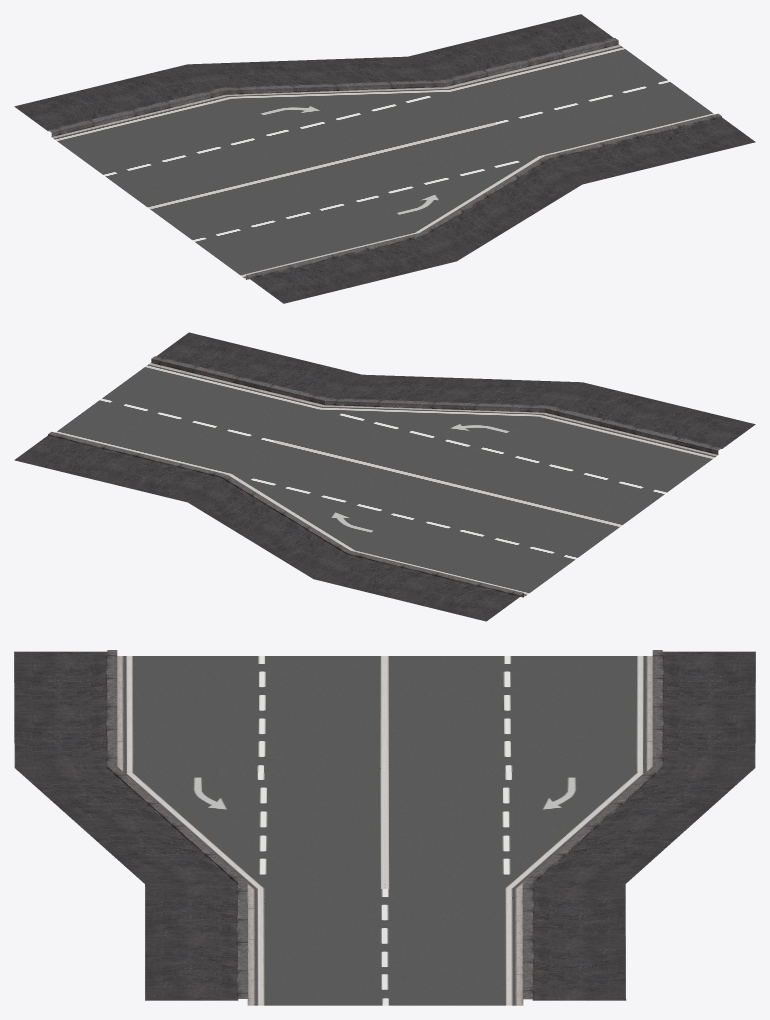
The model's file is 2 to 4 lines exit.FBX.
The picture shows the model from 3 angles, top to bottom: view 1: azimuth 30°, elevation 25°; view 2: azimuth 150°, elevation 25°; view 3: azimuth 270°, elevation 25°; orthographic projection. The views are drawn at different scales.
Visible parts, largest first — view 1: Plane253; view 2: Plane253; view 3: Plane253.
Part boxes in pixels (bbox=[...]): Plane253: bbox=[14, 14, 755, 303]; Plane253: bbox=[14, 332, 755, 621]; Plane253: bbox=[14, 650, 755, 1005].
Size of the model in its own units: 36.01 by 0.3184 by 32.31.
